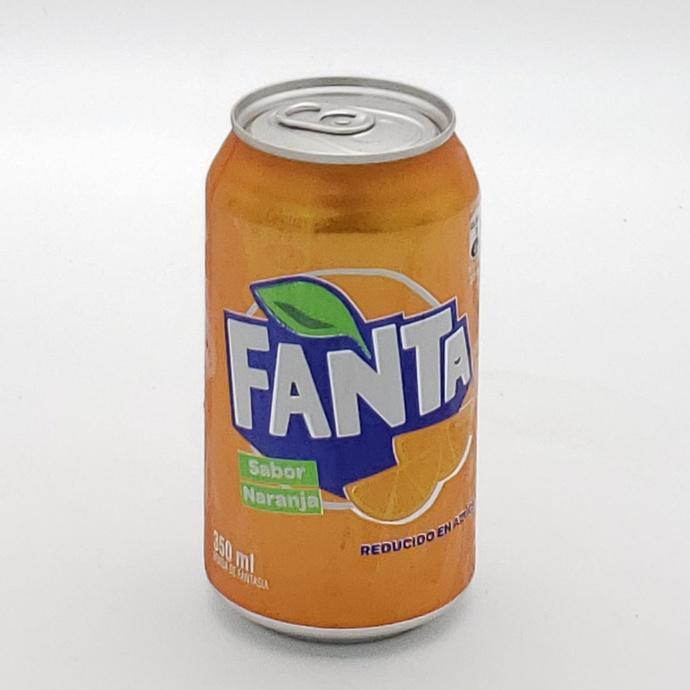metal: (205, 77, 480, 642)
